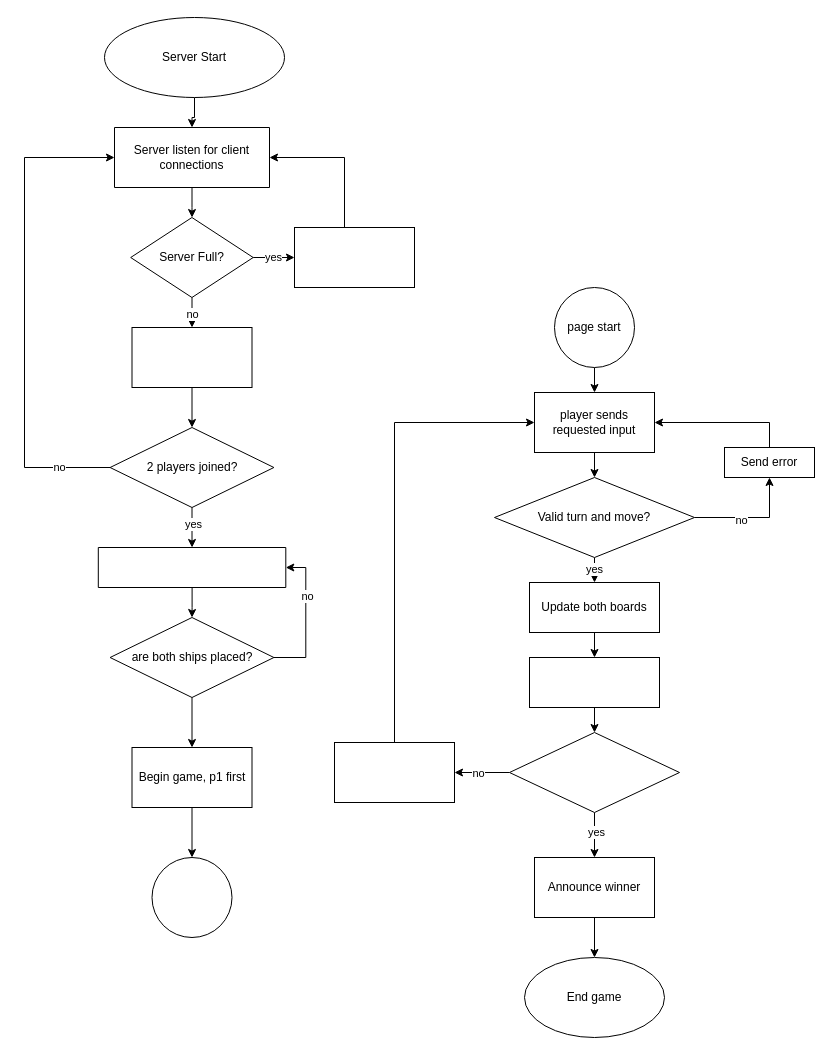
This 832x1055 diagram has some shape labels left out. Each missing label, with the centre of its shape:
"Add Player to game" belongs at point 191,357.
"All ships sunk?" belongs at point 594,772.
"Both clients place ships" belongs at point 191,567.
"Next page" belongs at point 191,897.
"reject client" belongs at point 354,257.
"send updated boards" belongs at point 594,682.
"swap turns" belongs at point 394,772.
